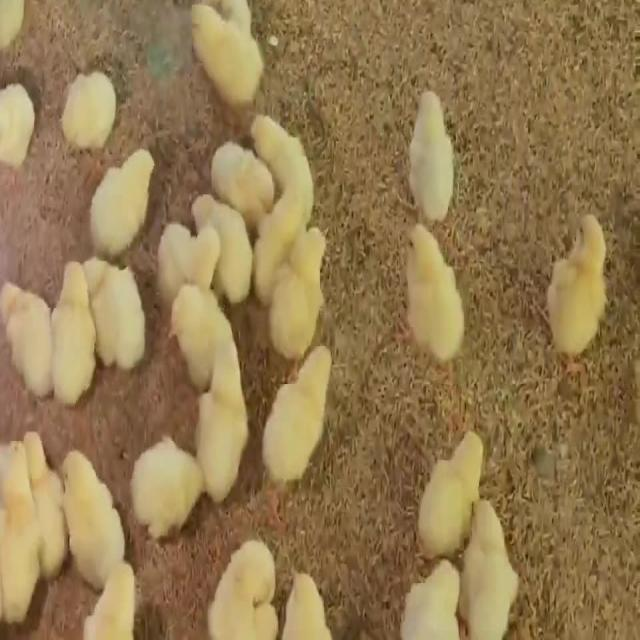poussin: (546, 207, 618, 380), (260, 343, 335, 492), (56, 447, 133, 579), (264, 224, 341, 352), (401, 226, 469, 364), (414, 427, 486, 555), (457, 496, 520, 638), (196, 350, 253, 498), (201, 540, 282, 640), (186, 6, 269, 103), (1, 441, 41, 620), (89, 147, 155, 252), (409, 88, 459, 221), (135, 438, 200, 535), (195, 198, 258, 298), (52, 260, 94, 404), (390, 552, 458, 640), (26, 425, 66, 567), (2, 279, 52, 388), (90, 268, 146, 363), (58, 70, 121, 153), (209, 140, 280, 210), (153, 222, 226, 288), (243, 116, 319, 176), (162, 294, 229, 357), (0, 82, 38, 176)
